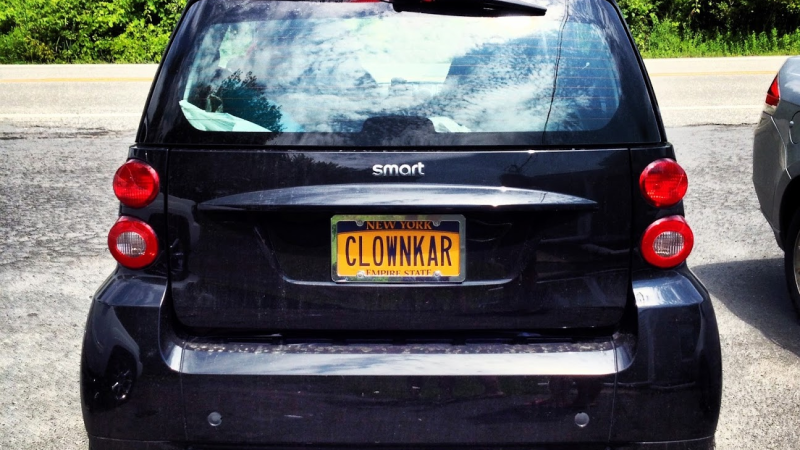license plate: (327, 212, 469, 285)
